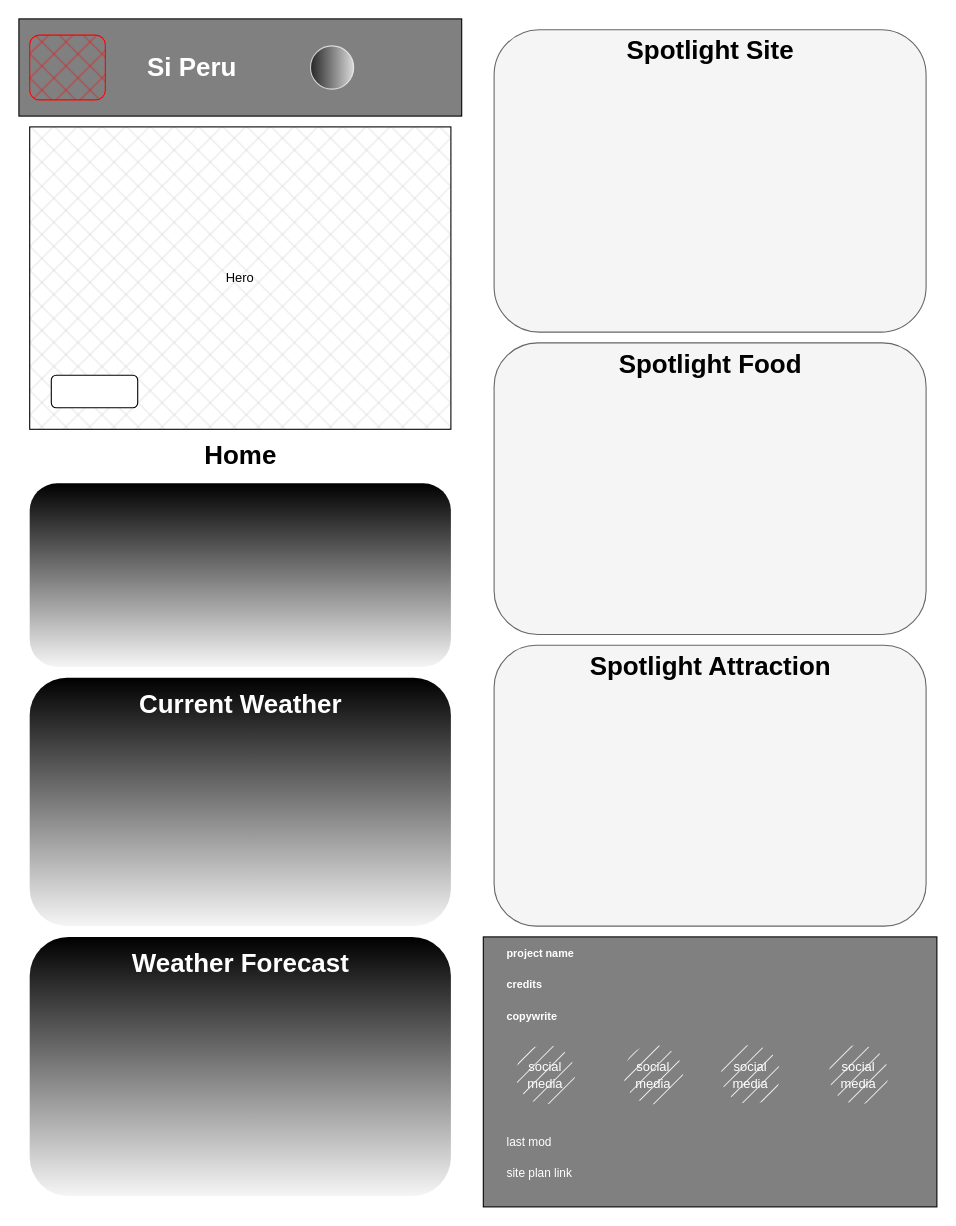
Some shapes in this 956 by 1226 pixel diagram are drawn without their labels. Each missing label, with the centre of its shape:
call to action: the point at 94,391
Current Events / News: the point at 239,574
dark mode: the point at 331,67
logo: the point at 67,67
